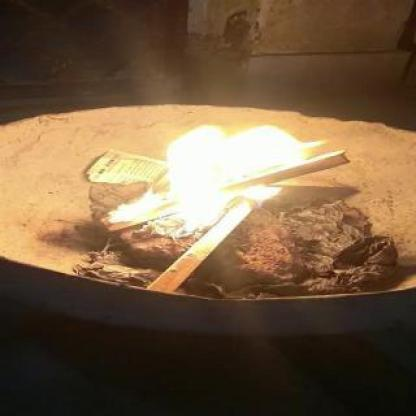fire: (86, 120, 333, 235)
